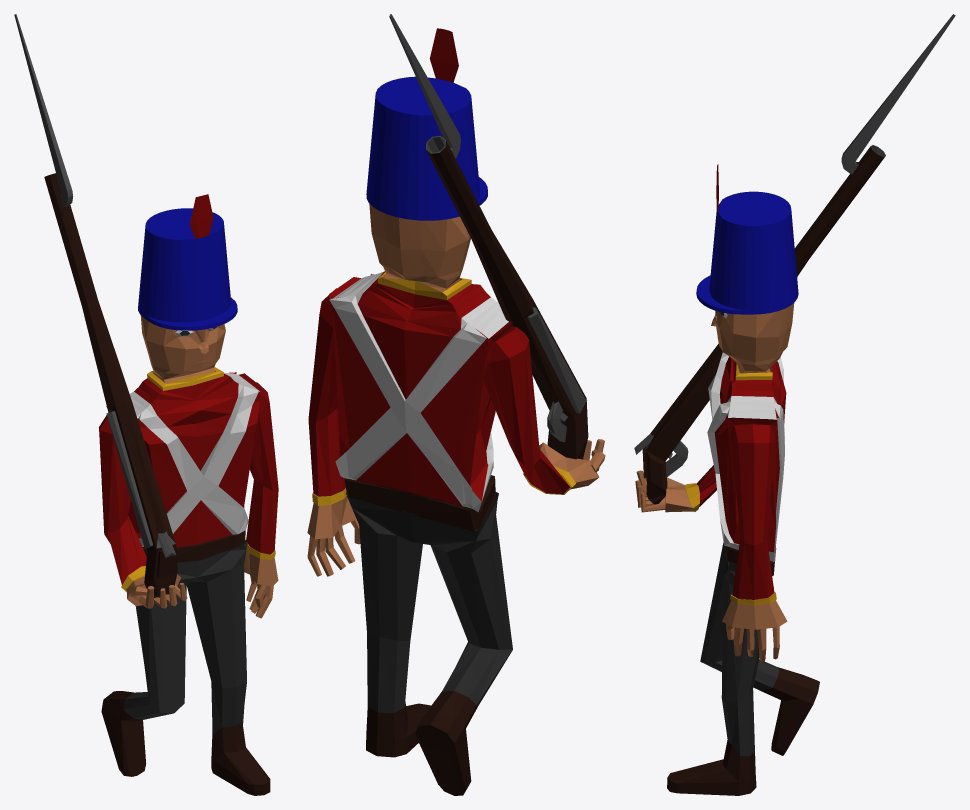
Rendered from Infantry_000156.obj.
3 renders of one model, left to right at view 1: azimuth 30°, elevation 25°; view 2: azimuth 150°, elevation 25°; view 3: azimuth 270°, elevation 25°, orthographic. The views are drawn at different scales.
Visible parts, largest first — view 1: {Man}_Circle, {Mesket}_Cube.001; view 2: {Man}_Circle, {Mesket}_Cube.001; view 3: {Man}_Circle, {Mesket}_Cube.001.
Part boxes in pixels (<box>): {Man}_Circle: <box>98,194,278,795</box>; {Mesket}_Cube.001: <box>14,14,177,597</box>; {Man}_Circle: <box>307,28,605,795</box>; {Mesket}_Cube.001: <box>389,14,588,459</box>; {Man}_Circle: <box>635,164,819,795</box>; {Mesket}_Cube.001: <box>634,14,955,504</box>.
Size of the model in its own units: 5.63 by 19.73 by 7.93.
